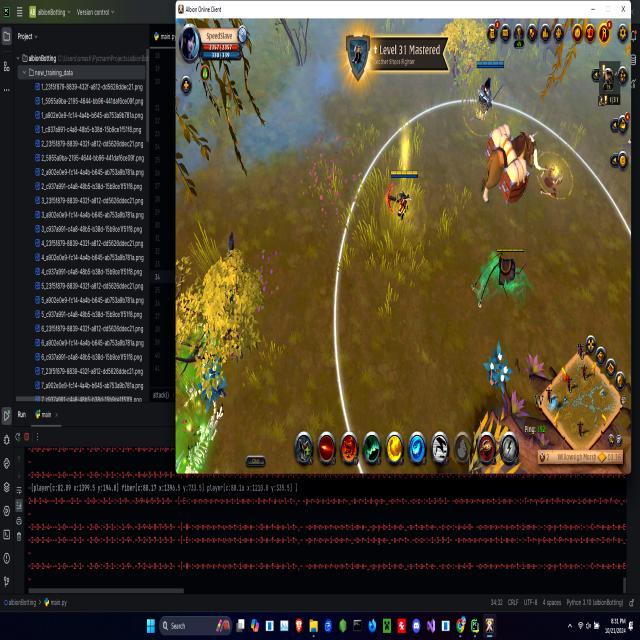hide: (481, 336, 518, 411), (196, 349, 232, 415)
red: (474, 52, 509, 126), (385, 163, 420, 235)
